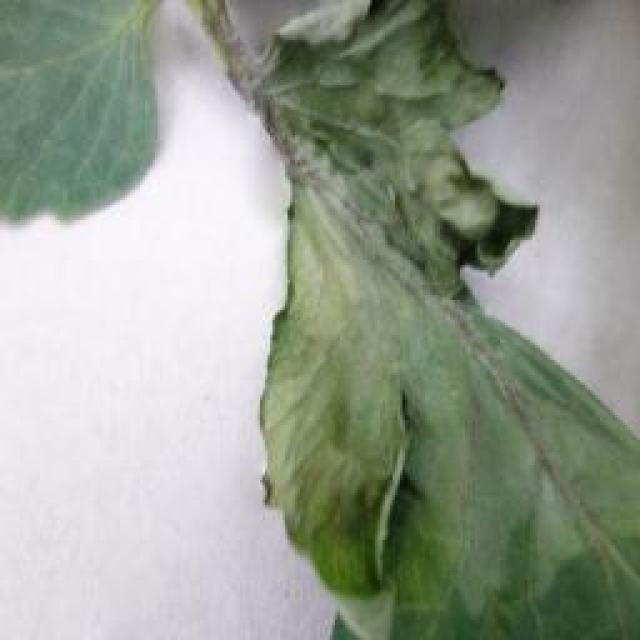Tomato Late Blight: (218, 70, 527, 410)
